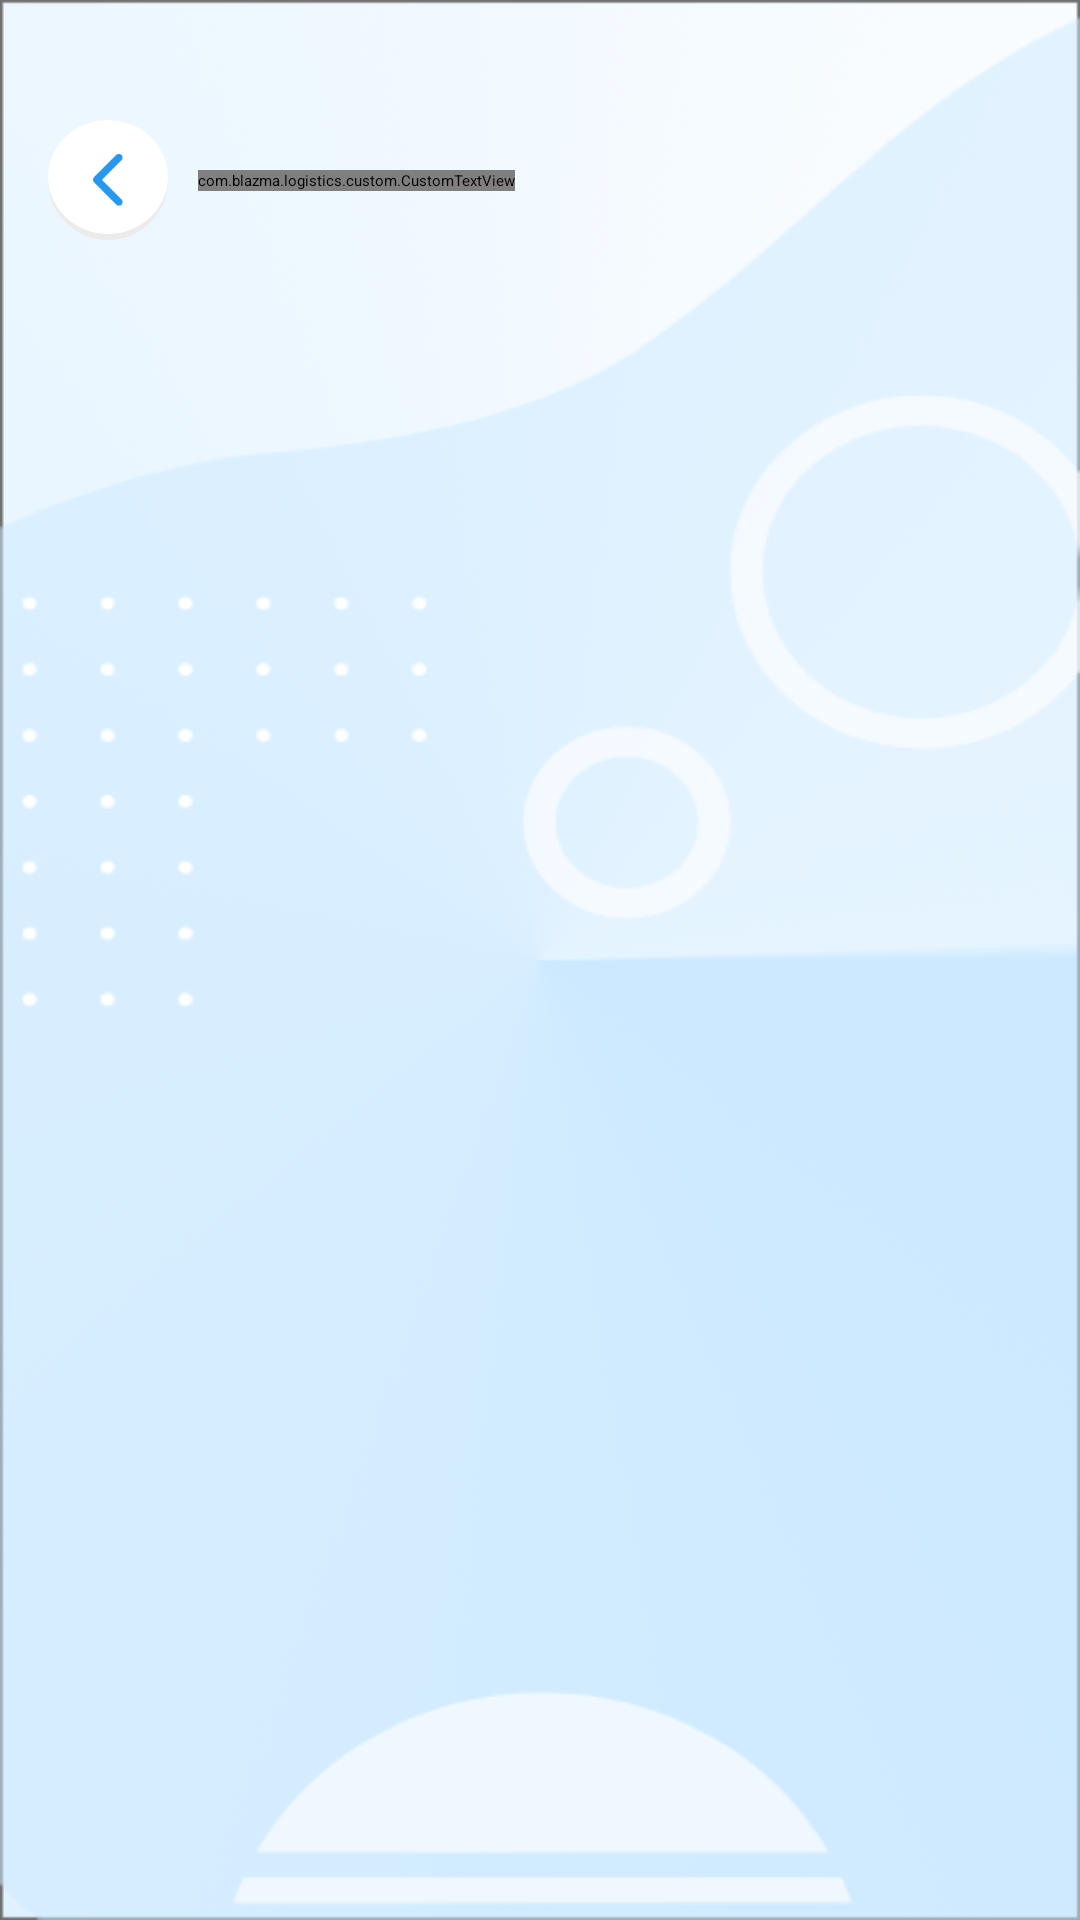

Icon bounding boxes for this 1080×1920 phone screenshot, format (x1, y1, x2, y2):
left arrow: (93, 154, 123, 206)
